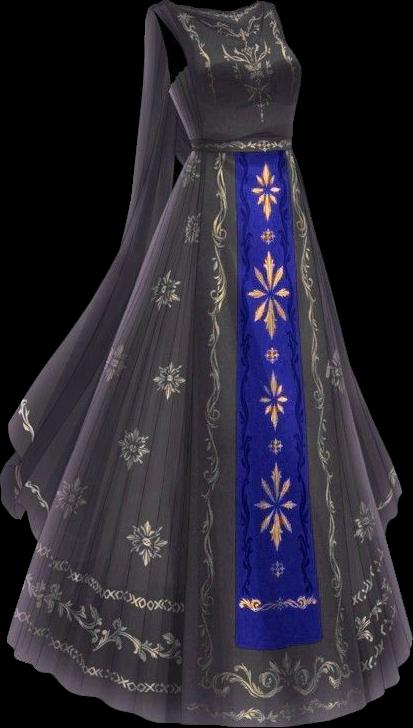Bodice: (150, 0, 301, 150)
Hemline: (5, 633, 412, 727)
Neckline: (169, 0, 265, 17)
Skirt: (7, 149, 411, 726)
Waistline: (190, 141, 295, 154)
